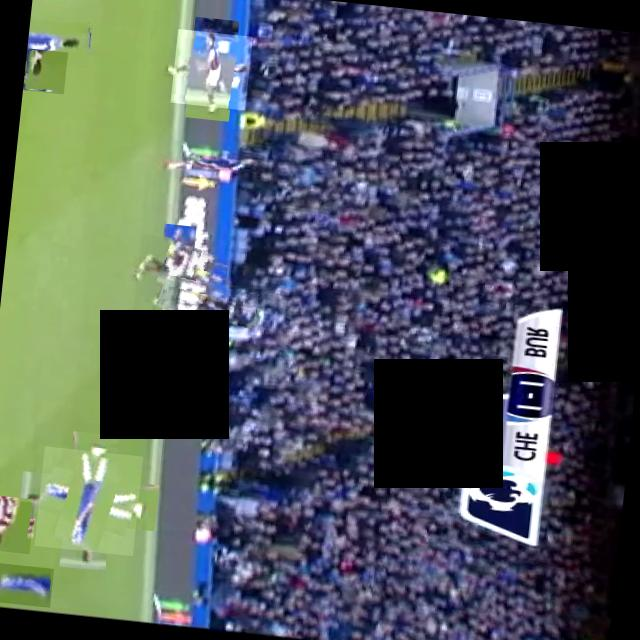referee: (162, 276, 259, 324)
soccer-player: (34, 445, 143, 555), (133, 233, 216, 316), (170, 28, 252, 109), (26, 17, 92, 66), (0, 559, 54, 606), (22, 47, 68, 93), (0, 495, 34, 552)
